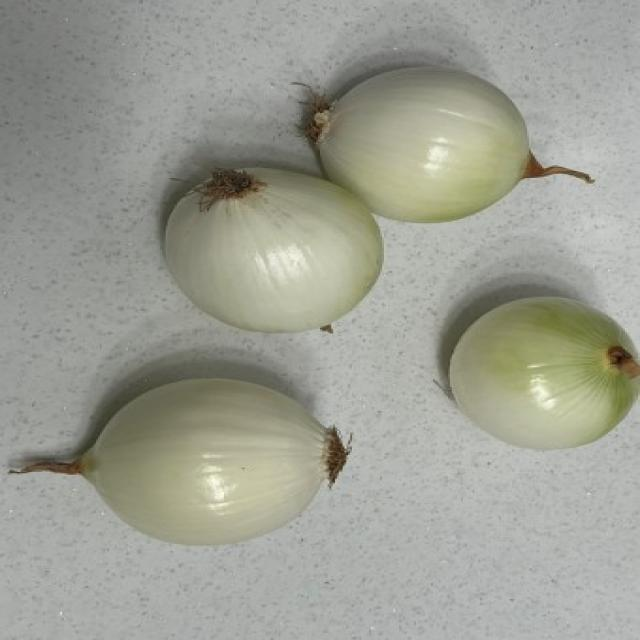onion: (53, 378, 377, 548), (145, 137, 402, 344), (299, 54, 565, 230), (480, 280, 626, 462)
